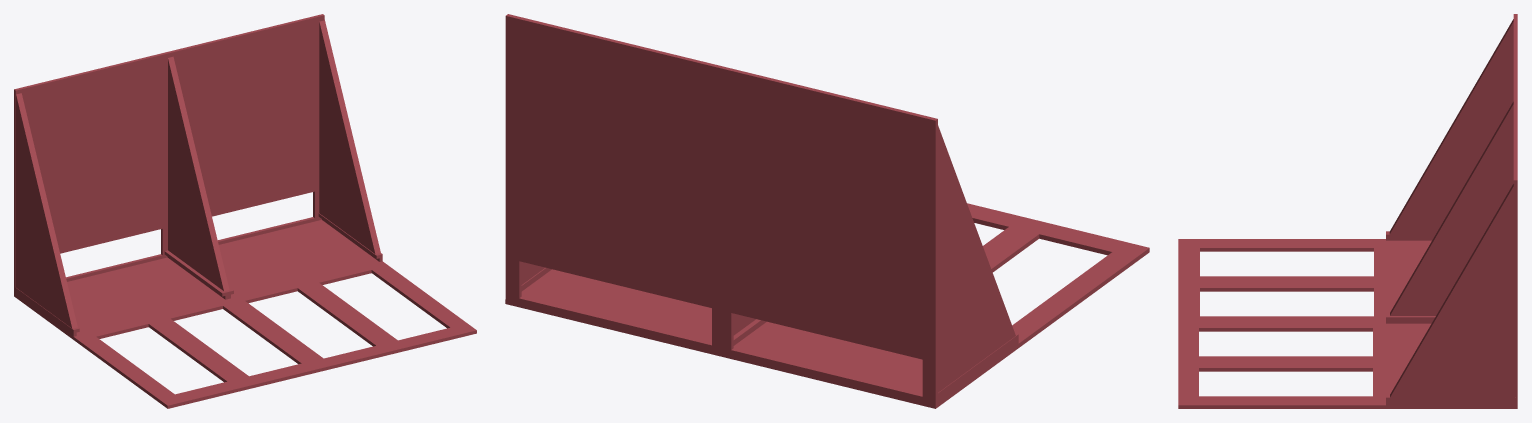
3 views of the same model, side by side, from view 1: azimuth 30°, elevation 25°; view 2: azimuth 150°, elevation 25°; view 3: azimuth 270°, elevation 25° (orthographic). The views are drawn at different scales.
Visible parts, largest first — view 1: Mesh_Mesh_head_geo.001_lambert2SG.001; view 2: Mesh_Mesh_head_geo.001_lambert2SG.001; view 3: Mesh_Mesh_head_geo.001_lambert2SG.001.
Boxes of the visible parts, box(x1,y1,x2,y2) form: Mesh_Mesh_head_geo.001_lambert2SG.001: box(14, 14, 476, 408); Mesh_Mesh_head_geo.001_lambert2SG.001: box(505, 14, 1149, 408); Mesh_Mesh_head_geo.001_lambert2SG.001: box(1178, 14, 1517, 408).
Bounding box in the file's own units: 0.1 × 0.064 × 0.0862.
